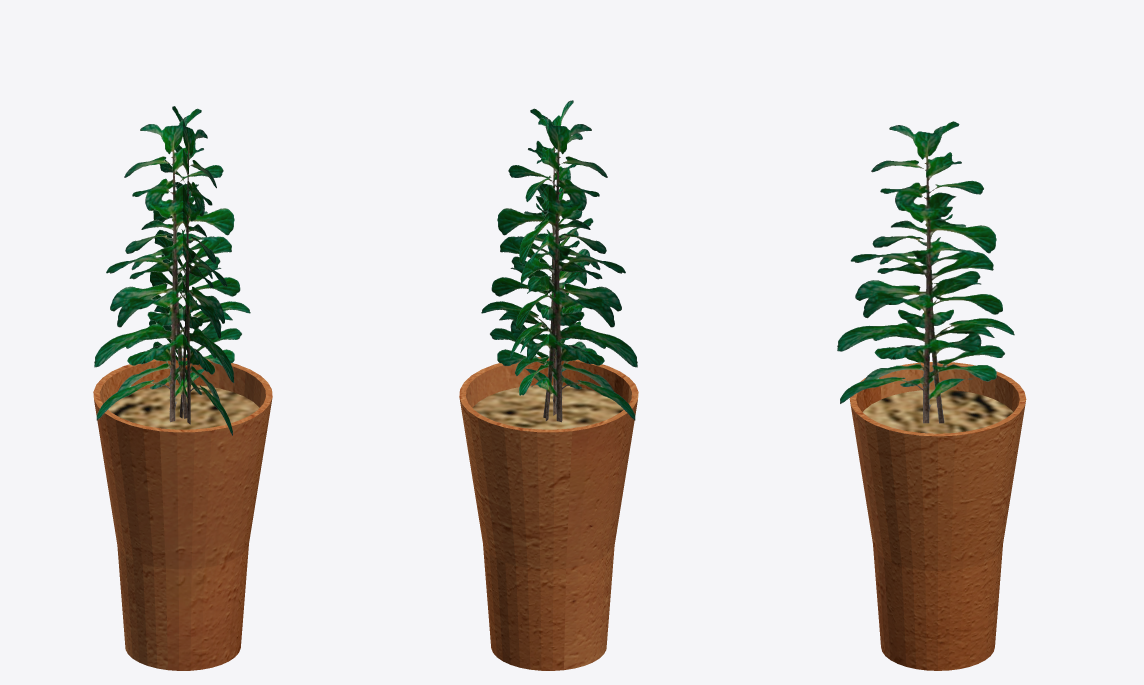
The model's file is floorPlant.fbx.
3 renders of one model, left to right at view 1: azimuth 30°, elevation 25°; view 2: azimuth 150°, elevation 25°; view 3: azimuth 270°, elevation 25°, orthographic.
Visible parts, largest first — view 1: Pot, Plant; view 2: Pot, Plant; view 3: Pot, Plant.
Boxes of the visible parts, x1=… form: Pot: x1=93, y1=357, x2=272, y2=670; Plant: x1=94, y1=106, x2=250, y2=435; Pot: x1=459, y1=357, x2=638, y2=670; Plant: x1=481, y1=100, x2=637, y2=422; Pot: x1=849, y1=362, x2=1026, y2=670; Plant: x1=837, y1=121, x2=1014, y2=423.
Size of the model in its own units: 67.32 by 67.32 by 107.
Materials: 2 (2 with a texture image).
